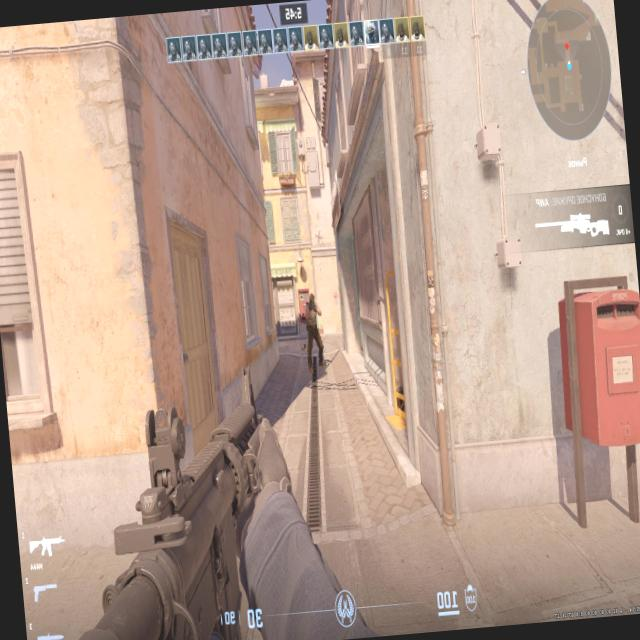T: (302, 292, 324, 368)
T_heat: (307, 295, 313, 306)
